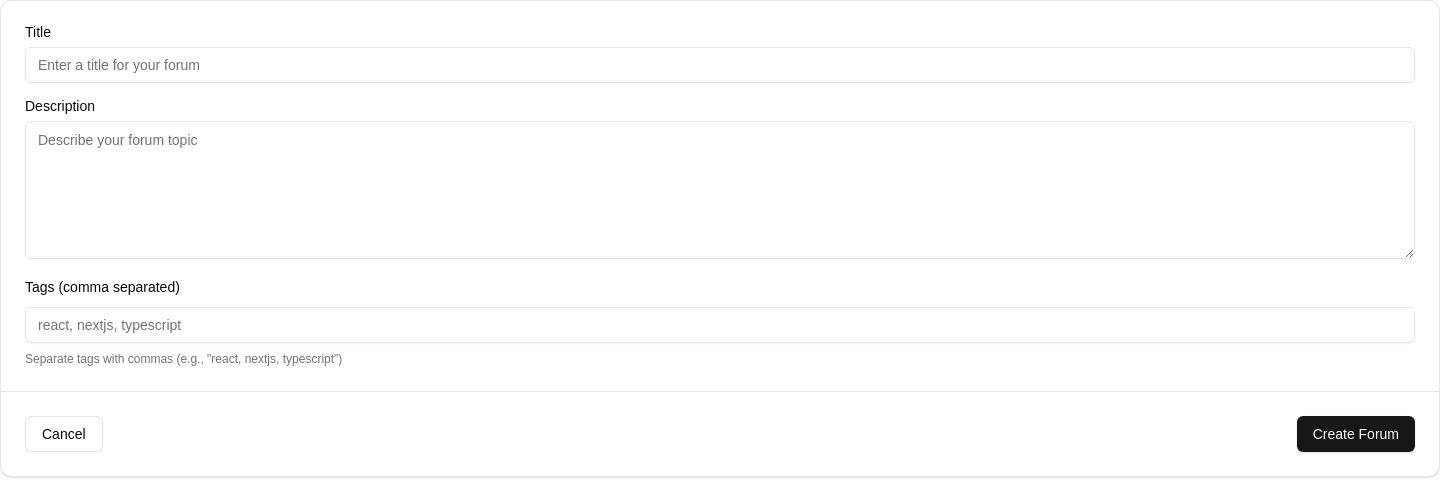
Test case: ForumForm › shows validation errors when description is too short
This screenshot has width=1440, height=497.
Type "Valid Title" into the field labelled "Title". click: x=720, y=65
box: [25,47,1415,83]
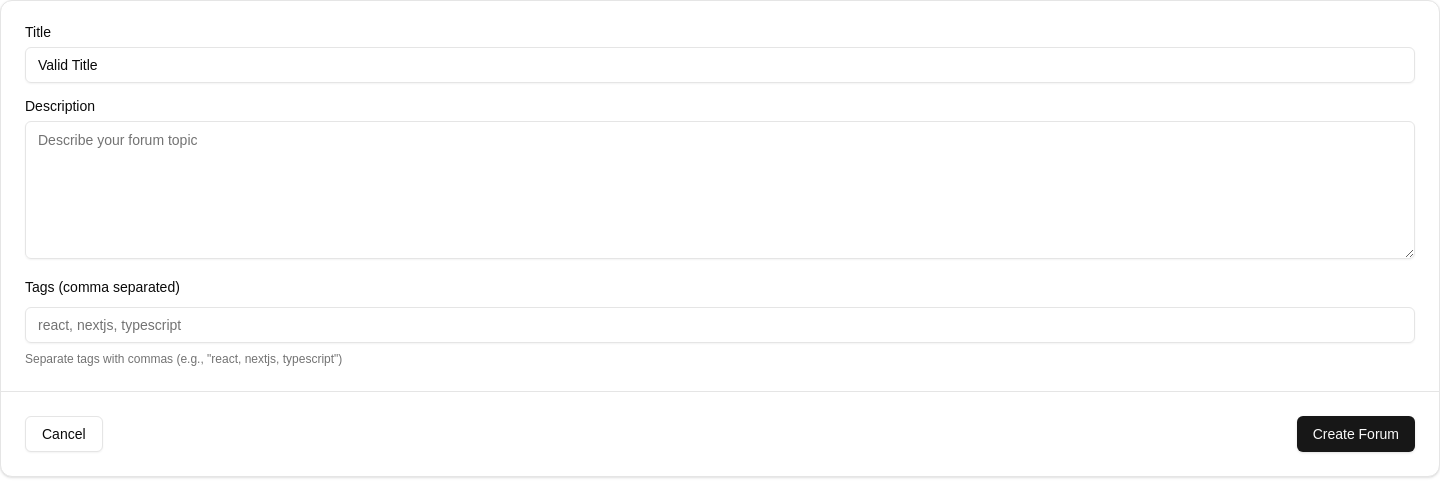
Type "Short" into the text box labelled "Description". click: x=720, y=190
box: [25,121,1415,259]
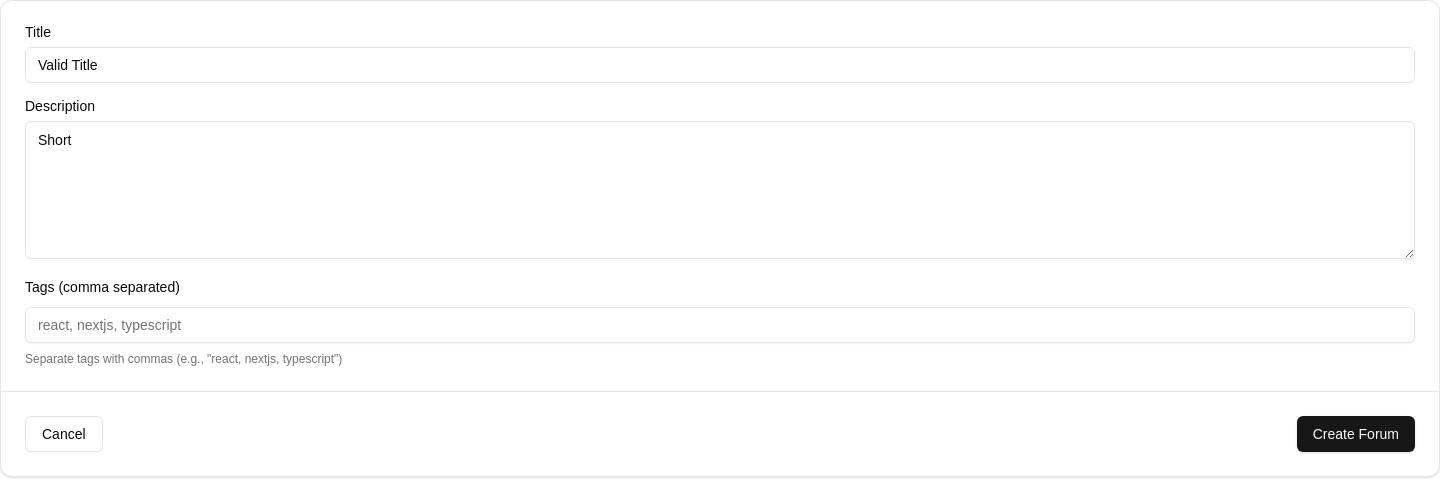
Click the button "Create Forum". click: x=1356, y=434
box: [1297,416,1415,452]
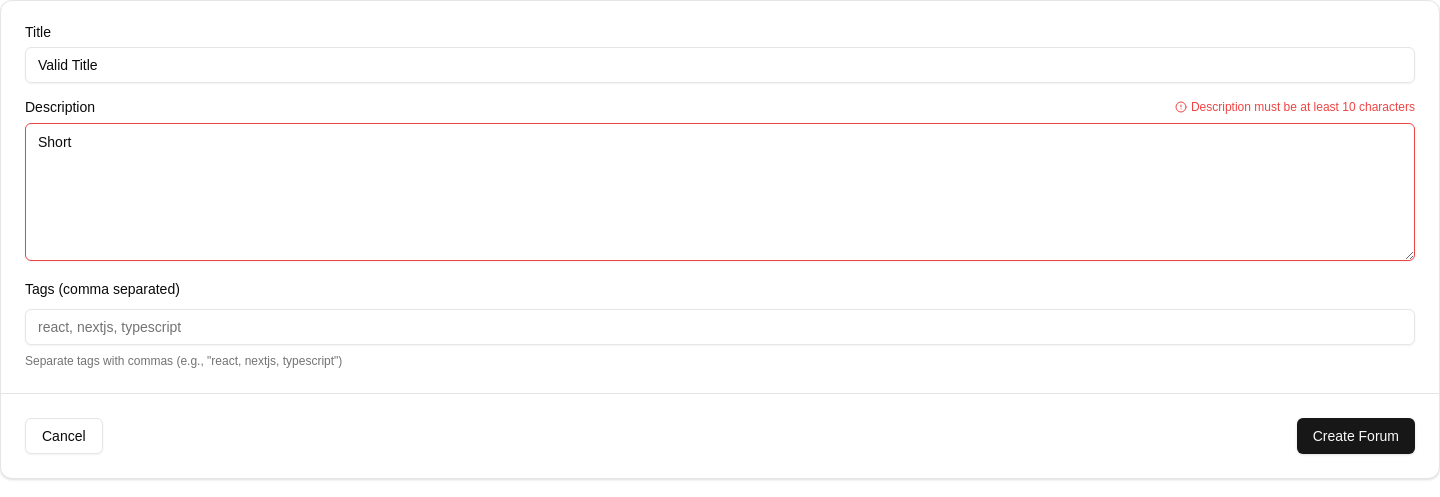
Now the text "Description must be at least 10 characters" is shown, box [1175,99,1415,115]
